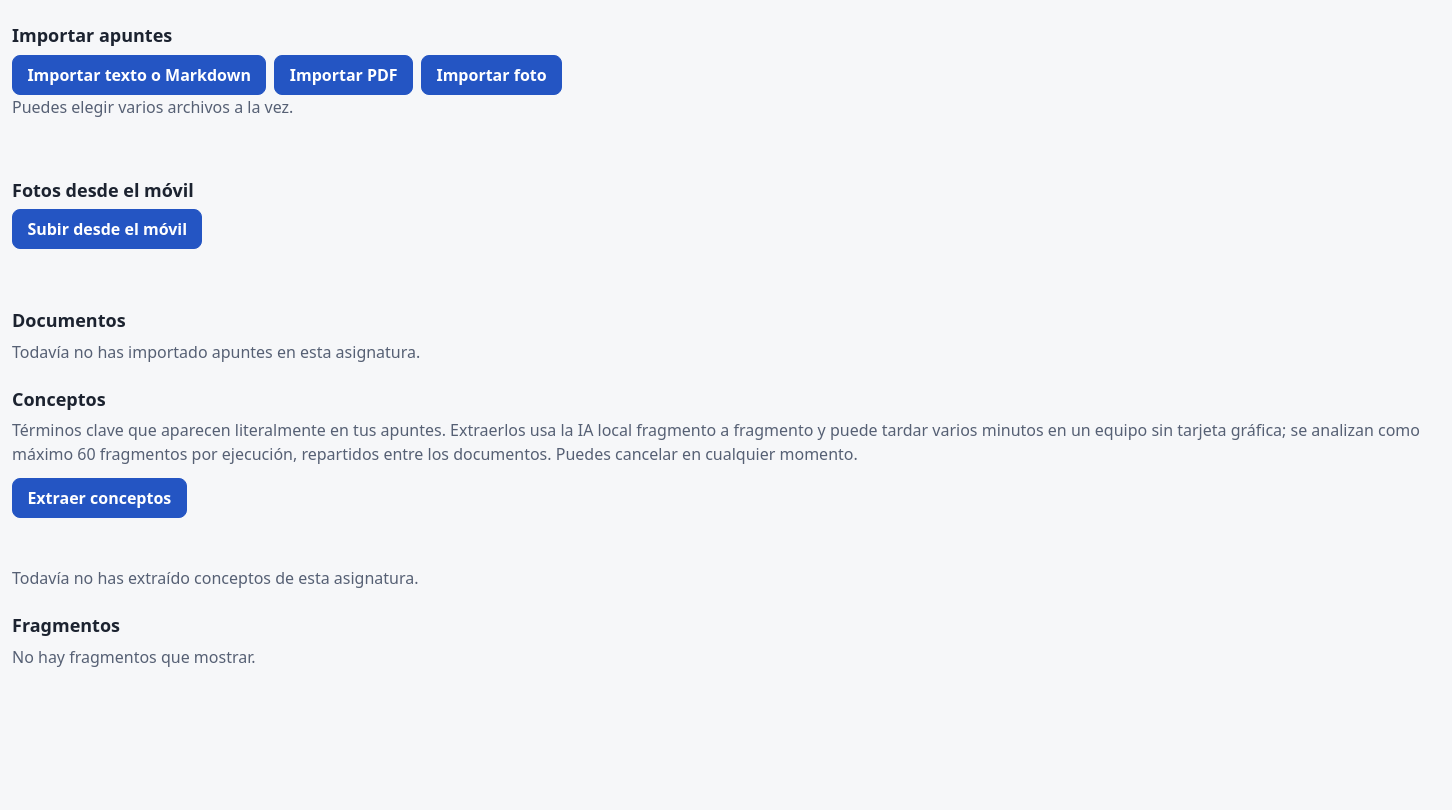
Test: Notes › tras importar una foto abre la revisión OCR con el texto editable
The width and height of the screenshot is (1452, 810).
Click the button "Importar foto" at (492, 74), box [421, 54, 562, 94]
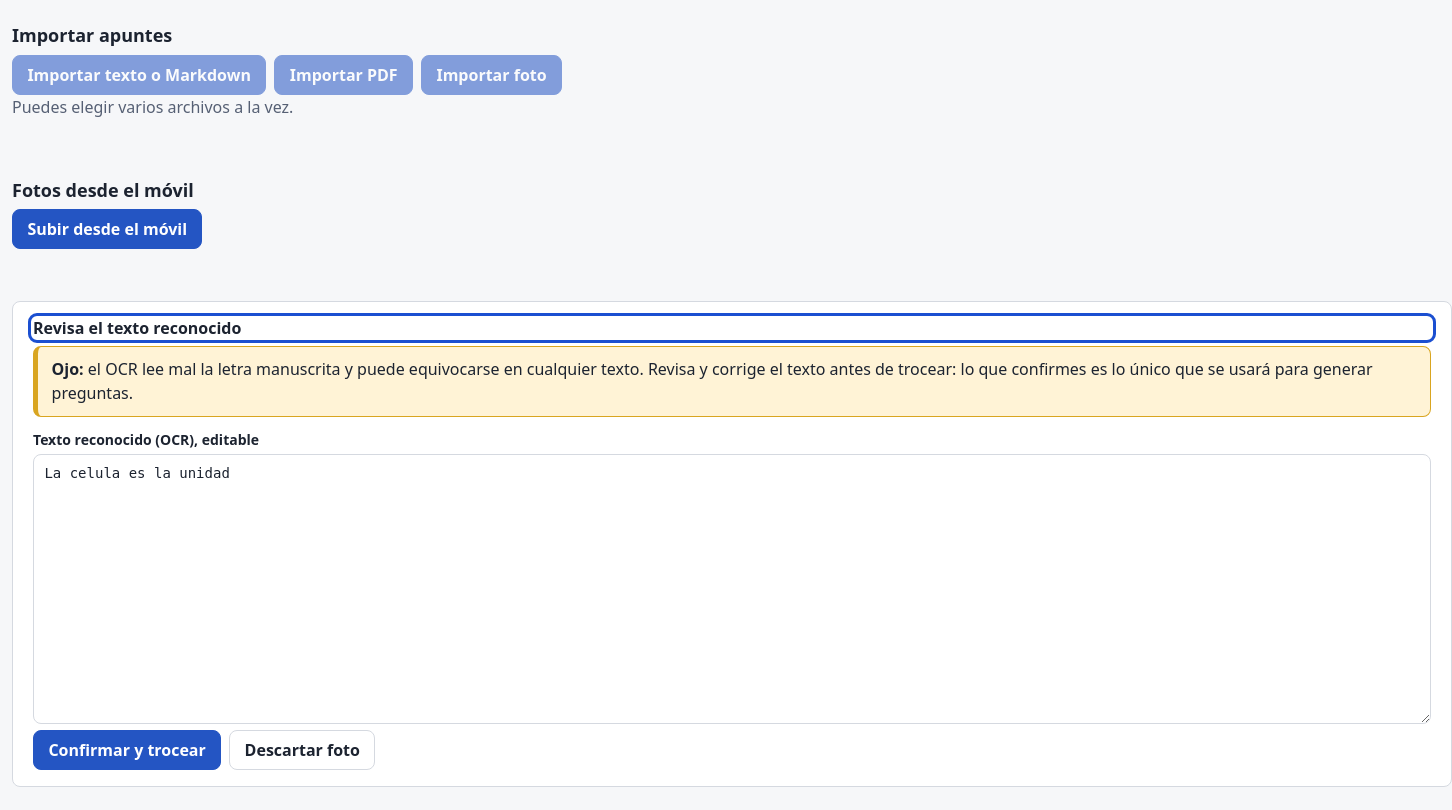
Check: the text box labelled "Texto reconocido (OCR), editable" holds "La celula es la unidad", box [33, 454, 1431, 724]
Check: the button "Confirmar y trocear" is shown, box [33, 730, 221, 770]
